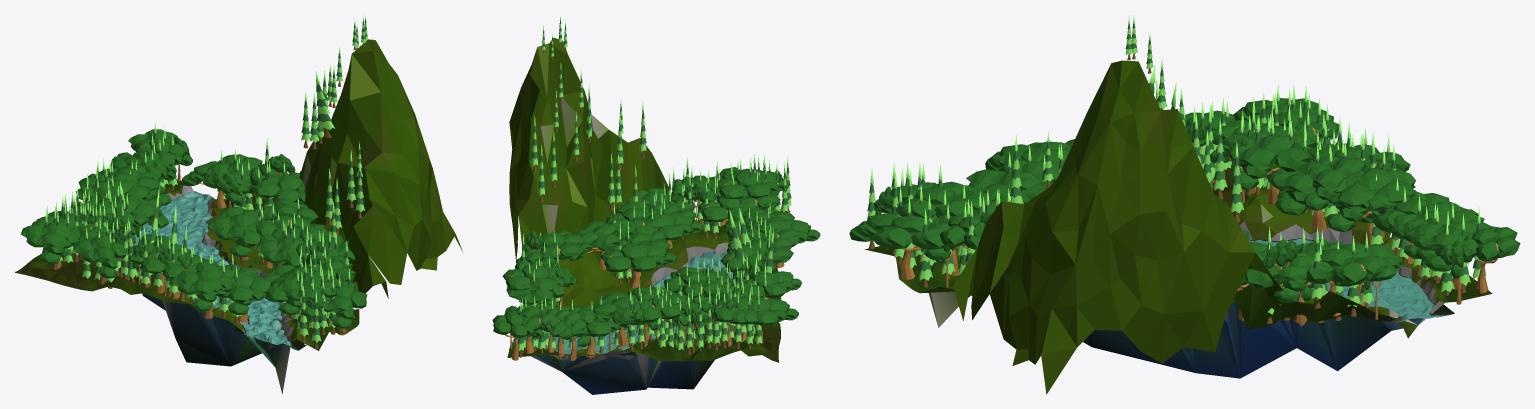
Rendered from landscape.fbx.
3 views of the same model, side by side, from view 1: azimuth 30°, elevation 25°; view 2: azimuth 150°, elevation 25°; view 3: azimuth 270°, elevation 25° (orthographic). The views are drawn at different scales.
Visible parts, largest first — view 1: Landscape, Landscape_plane, tree.040, tree.065, tree.022, tree.021, tree.067, tree.069, tree.004, tree.063, tree.034, tree.070 (+23 smaller); view 2: Landscape, tree.021, Landscape_plane, tree.022, tree.070, tree.069, tree.065, tree.017, tree.063, tree.040, tree.034, tree.046 (+28 smaller); view 3: Landscape, tree.069, tree.004, Landscape_plane, tree.022, tree.017, tree.063, tree.054, tree.010, tree.015, tree.028, tree.051 (+17 smaller).
Part boxes in pixels (x1,y1,x2,y2): Landscape: (15, 39, 462, 394); Landscape_plane: (133, 191, 306, 350); tree.040: (72, 229, 125, 284); tree.065: (20, 216, 80, 269); tree.022: (278, 267, 337, 317); tree.021: (208, 207, 260, 260); tree.067: (171, 263, 234, 318); tree.069: (89, 194, 168, 228); tree.004: (324, 280, 367, 335); tree.063: (206, 154, 262, 209); tree.034: (253, 172, 305, 203); tree.070: (262, 198, 318, 228); Landscape: (507, 37, 790, 394); tree.021: (600, 243, 676, 288); Landscape_plane: (509, 251, 736, 355); tree.022: (718, 168, 789, 199); tree.070: (569, 218, 635, 270); tree.069: (664, 267, 726, 298); tree.065: (730, 295, 798, 343); tree.017: (593, 292, 638, 345); tree.063: (502, 263, 577, 291); tree.040: (742, 270, 801, 299); tree.034: (524, 231, 584, 260); tree.046: (634, 213, 703, 252); Landscape: (864, 60, 1492, 394); tree.069: (1226, 125, 1318, 204); tree.004: (849, 212, 945, 279); Landscape_plane: (1249, 238, 1454, 322); tree.022: (874, 181, 992, 219); tree.017: (1335, 168, 1426, 238); tree.063: (1297, 242, 1388, 316); tree.054: (1304, 151, 1372, 210); tree.010: (1407, 216, 1492, 289); tree.015: (1267, 160, 1327, 230); tree.028: (1274, 253, 1334, 323); tree.051: (1463, 226, 1520, 293).
Bounding box in the file's own units: 27385 × 23916 × 31703.
Materials: 10 (1 with a texture image).
